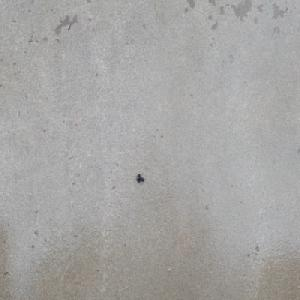BoltWasher: (136, 172, 145, 182)
